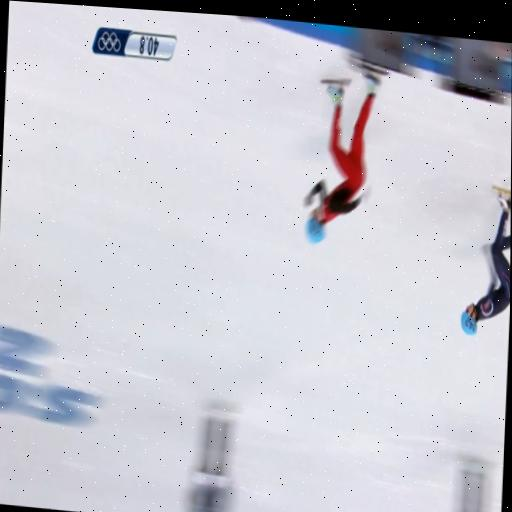Skater: (303, 72, 380, 242), (460, 191, 510, 334)
